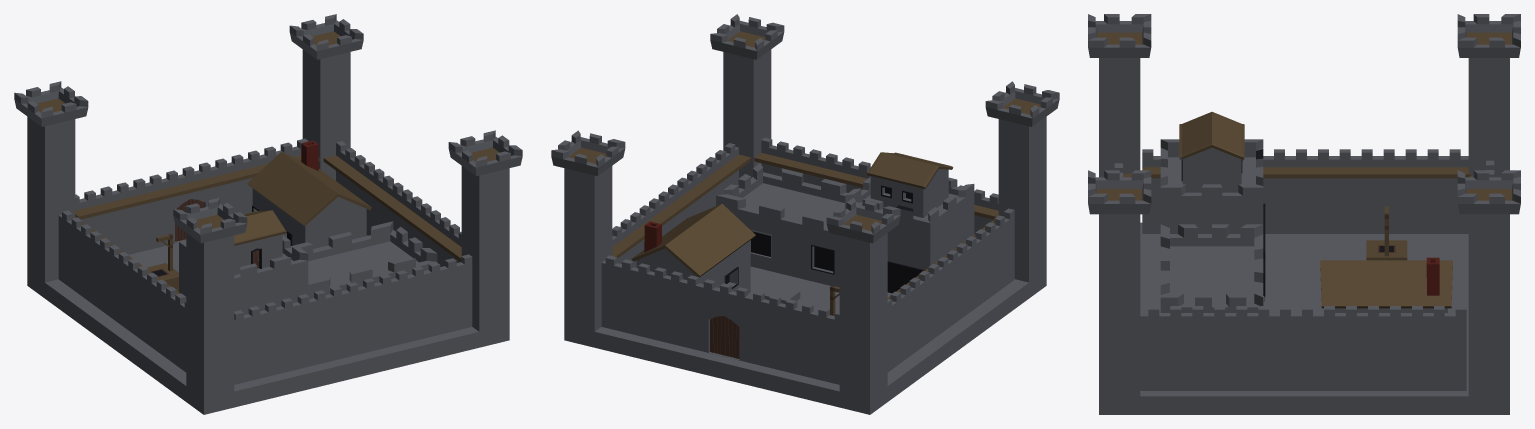
Rendered from updatedCastleWithColor.fbx.
3 renders of one model, left to right at view 1: azimuth 30°, elevation 25°; view 2: azimuth 150°, elevation 25°; view 3: azimuth 270°, elevation 25°, orthographic. The views are drawn at different scales.
Visible parts, largest first — view 1: Cube; view 2: Cube; view 3: Cube.
Boxes of the visible parts, box(x1,y1,x2,y2) form: Cube: box(14, 14, 522, 414); Cube: box(551, 14, 1059, 414); Cube: box(1088, 14, 1520, 414).
Bounding box in the file's own units: 2108 × 1202 × 2108.
